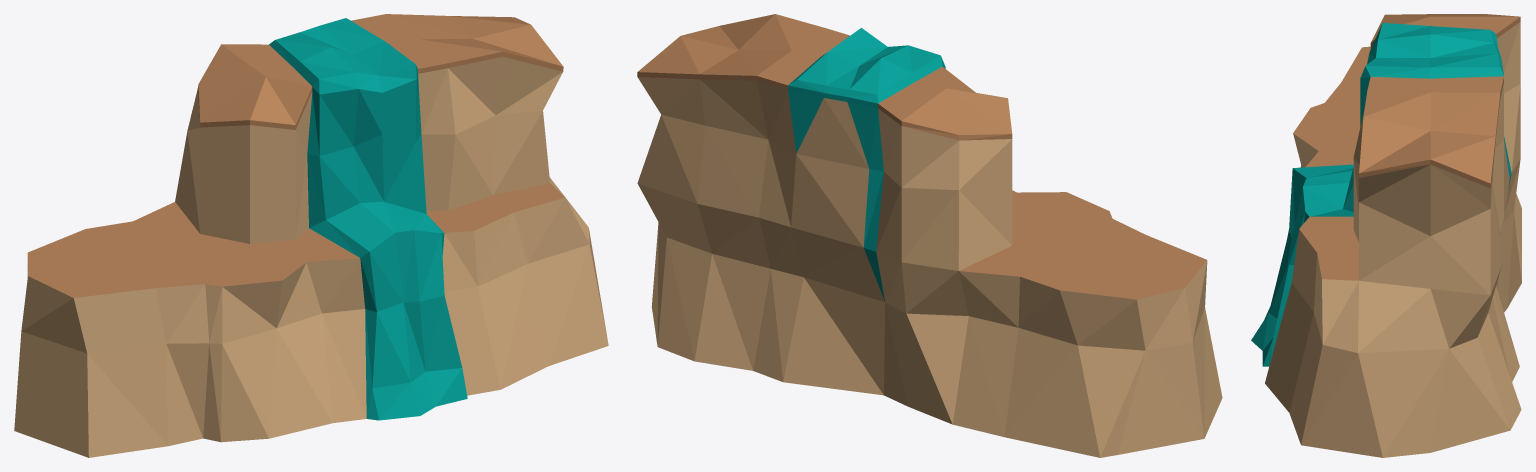
File: Waterfall.fbx
3 renders of one model, left to right at view 1: azimuth 30°, elevation 25°; view 2: azimuth 150°, elevation 25°; view 3: azimuth 270°, elevation 25°, orthographic.
Visible parts, largest first — view 1: Waterfall; view 2: Waterfall; view 3: Waterfall.
Part boxes in pixels (x1,y1,x2,y2): Waterfall: (14,14,608,457); Waterfall: (637,14,1222,457); Waterfall: (1251,14,1521,457).
Size of the model in its own units: 1417 by 591 by 736.
